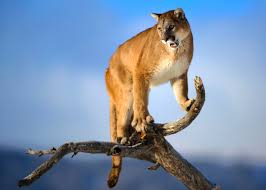Mountain Lion: (113, 8, 197, 87)
